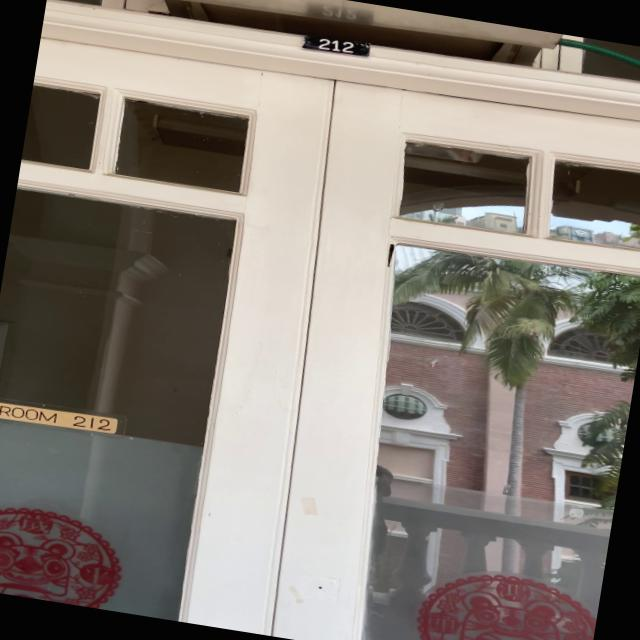room212: (290, 32, 381, 62)
room212Window: (0, 392, 132, 445)
